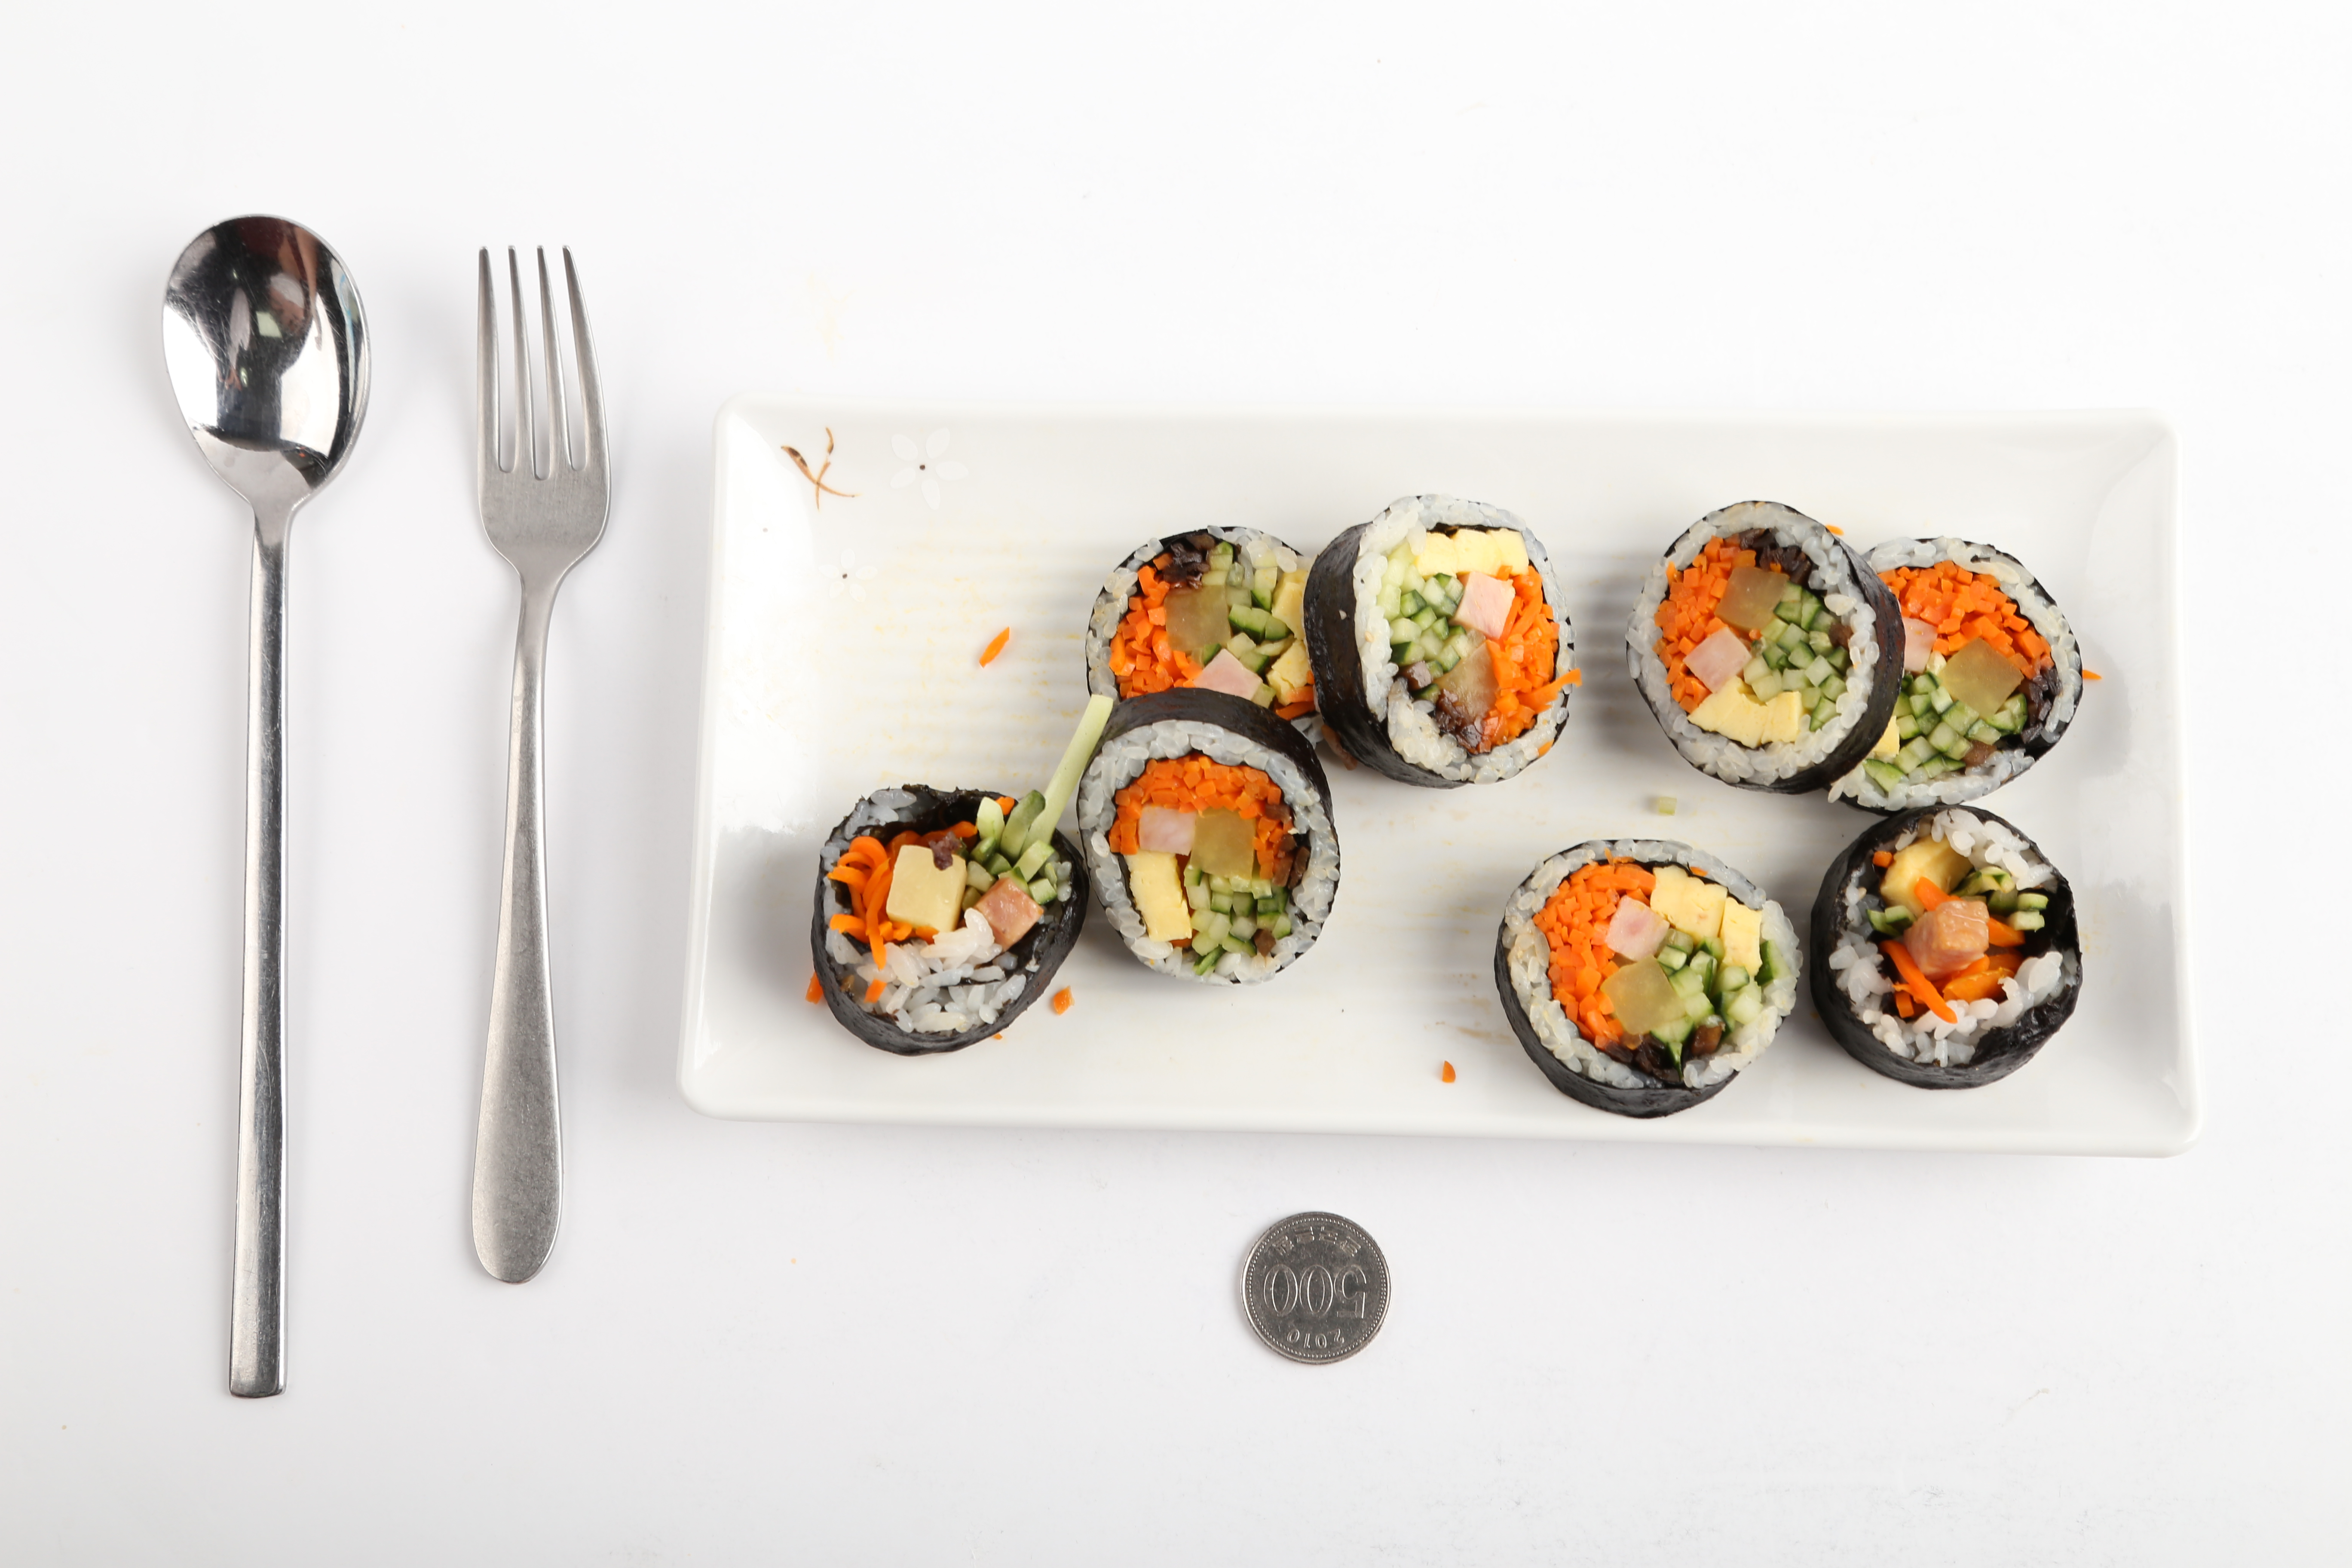dish: (709, 388, 2201, 1158)
ref_coin: (1232, 1206, 1398, 1367)
ref_fork: (469, 236, 614, 605)
ref_spoon: (157, 206, 374, 572)
김밥: (810, 485, 2089, 1122)
